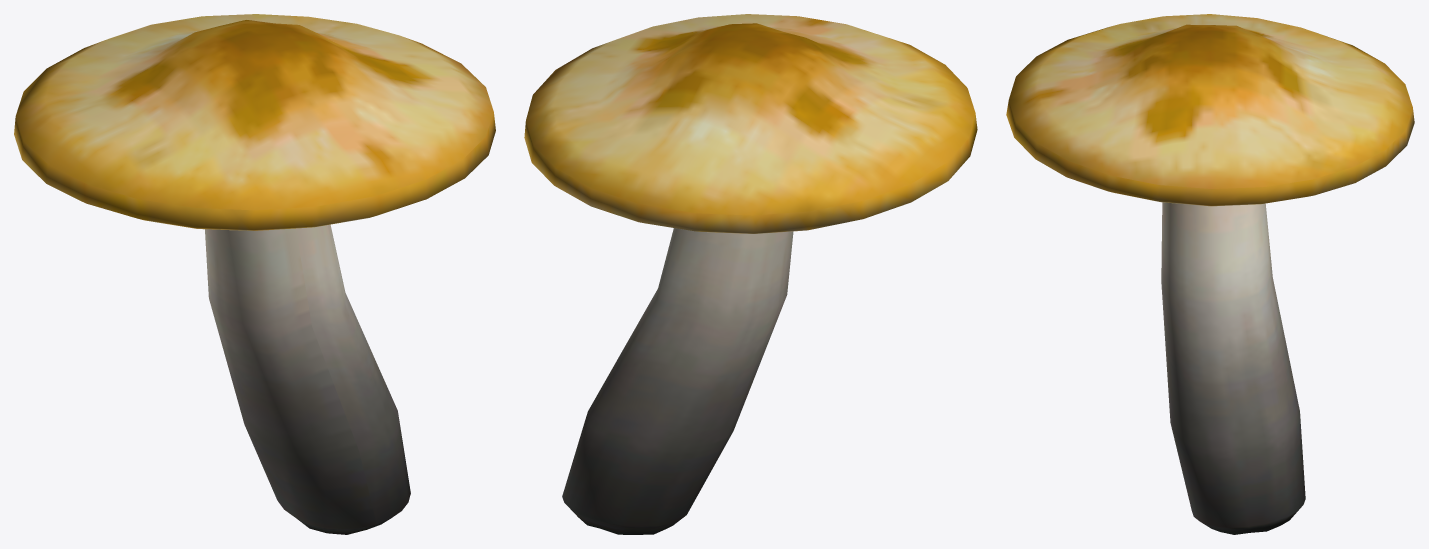
File: INST_TROLLHOLE_SHROOMC4.fbx
3 views of the same model, side by side, from view 1: azimuth 30°, elevation 25°; view 2: azimuth 150°, elevation 25°; view 3: azimuth 270°, elevation 25° (orthographic). The views are drawn at different scales.
Parts seen in each view (by area): view 1: INST_TROLLHOLE_SHROOMC4; view 2: INST_TROLLHOLE_SHROOMC4; view 3: INST_TROLLHOLE_SHROOMC4.
Boxes of the visible parts, x1=… form: INST_TROLLHOLE_SHROOMC4: x1=14, y1=14, x2=495, y2=534; INST_TROLLHOLE_SHROOMC4: x1=524, y1=14, x2=977, y2=534; INST_TROLLHOLE_SHROOMC4: x1=1006, y1=14, x2=1414, y2=534.
Size of the model in its own units: 32558 by 39074 by 32549.
1 material, 1 textured.
